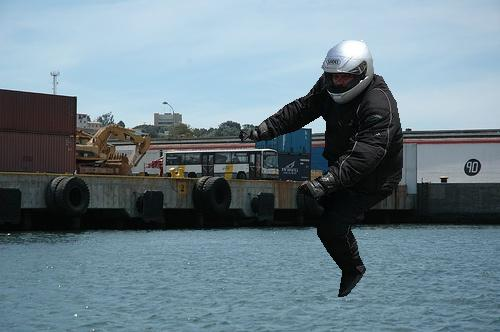tampered: (240, 41, 403, 297)
